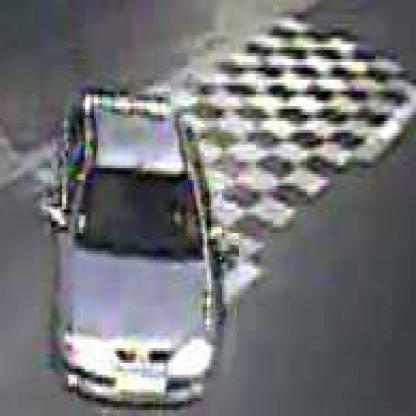car: (40, 87, 234, 414)
